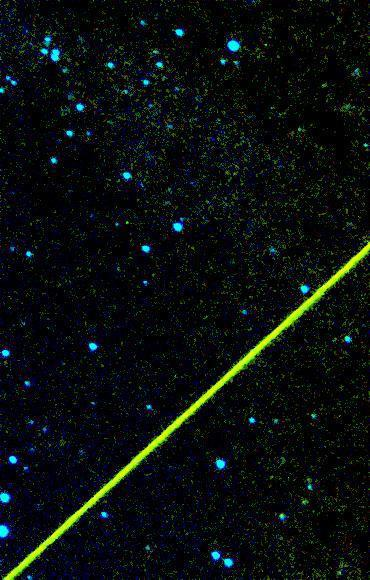star: (258, 462, 288, 492)
